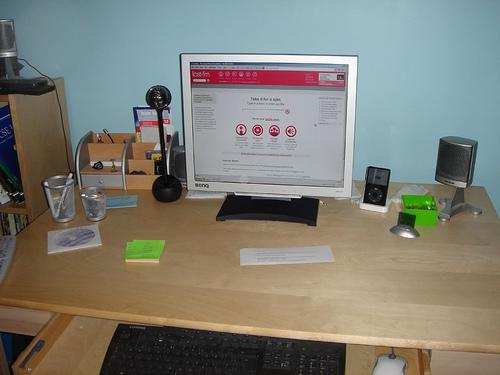tv: (174, 43, 360, 205)
